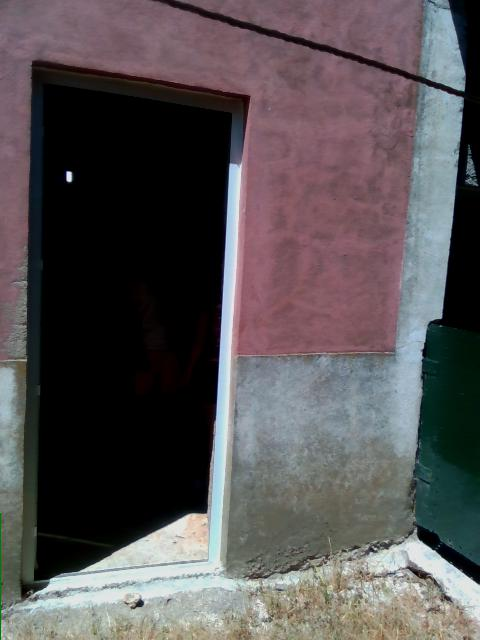open_door: (20, 55, 253, 600)
